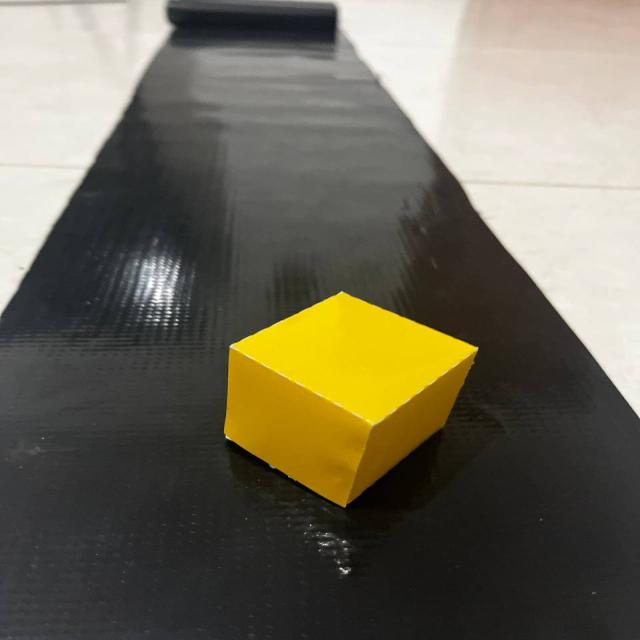Amarillo: (190, 274, 489, 532)
